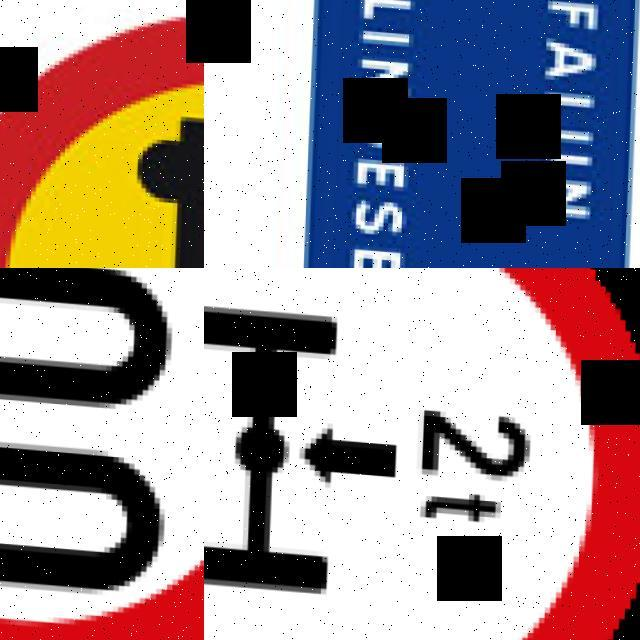49: (0, 0, 204, 268)
83: (294, 0, 640, 268)
Axle weight limit-2ton: (204, 268, 640, 640)
One-way traffic: (204, 268, 640, 640)
speed limit-100: (0, 268, 204, 640)
